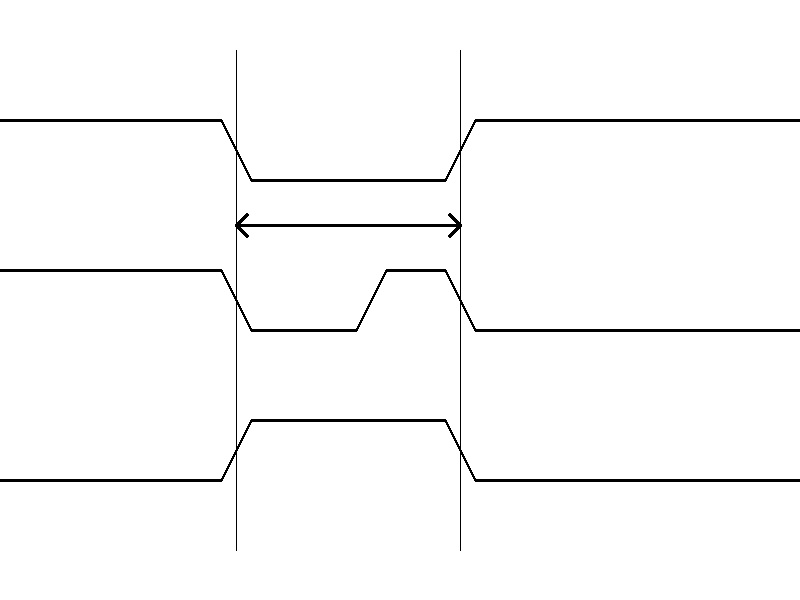double_arrow: (236, 210, 460, 240)
